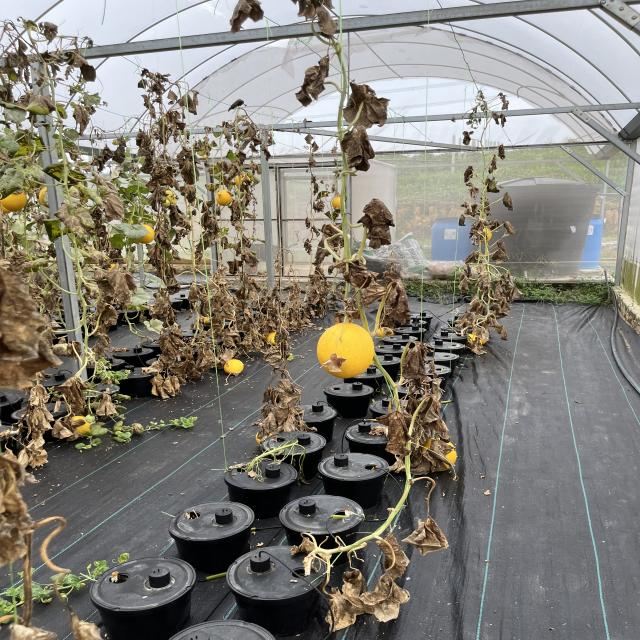bacterial wilt: (288, 57, 336, 111), (360, 200, 400, 252), (366, 574, 408, 623), (334, 130, 381, 170), (318, 589, 361, 630), (409, 516, 454, 554), (378, 536, 413, 578), (224, 0, 266, 34), (398, 338, 432, 380), (65, 50, 105, 84), (56, 202, 95, 234), (421, 398, 452, 436), (341, 568, 372, 604), (99, 185, 129, 222), (58, 376, 88, 407), (358, 282, 393, 308), (341, 264, 378, 288), (310, 8, 345, 33), (28, 93, 58, 115), (290, 0, 318, 23), (29, 406, 52, 434), (22, 384, 51, 406), (87, 302, 120, 321), (279, 411, 307, 433), (145, 244, 171, 267), (256, 412, 279, 437), (91, 394, 116, 416), (49, 416, 74, 438), (27, 450, 54, 470), (322, 354, 350, 373), (428, 378, 451, 401), (91, 320, 119, 338), (179, 182, 201, 203), (38, 22, 61, 42), (167, 203, 184, 229), (343, 296, 361, 320), (455, 274, 479, 292), (489, 296, 513, 314), (504, 286, 530, 302), (495, 91, 518, 109), (197, 231, 216, 251), (491, 323, 512, 341), (112, 143, 130, 164), (14, 448, 31, 470), (501, 220, 518, 240), (471, 325, 491, 342), (173, 360, 196, 374), (1, 426, 25, 439), (488, 282, 510, 296), (281, 393, 300, 409), (3, 83, 18, 103), (491, 250, 512, 264), (238, 251, 259, 265), (199, 200, 215, 218), (171, 229, 191, 243), (26, 435, 47, 448), (381, 270, 405, 281), (219, 347, 236, 362), (501, 192, 515, 210), (486, 177, 502, 192), (155, 331, 171, 346), (494, 146, 511, 160), (168, 279, 185, 293), (203, 218, 221, 231), (200, 333, 216, 347), (462, 250, 479, 263), (202, 355, 220, 367), (227, 258, 242, 272), (467, 298, 481, 313), (265, 387, 278, 403), (498, 114, 512, 128), (464, 166, 478, 180), (268, 348, 282, 362), (468, 228, 480, 244), (250, 276, 263, 290), (477, 273, 492, 285), (467, 202, 478, 218), (308, 272, 325, 282), (468, 186, 481, 199), (490, 218, 502, 232), (427, 359, 438, 374), (461, 200, 471, 216), (503, 272, 516, 284), (303, 239, 313, 254), (490, 112, 499, 128), (211, 320, 223, 332), (242, 305, 251, 320), (172, 377, 184, 388), (163, 378, 174, 390), (172, 335, 182, 348), (240, 336, 252, 346), (497, 241, 508, 251), (153, 375, 163, 385), (492, 156, 500, 168), (458, 216, 466, 227), (151, 386, 162, 394)
